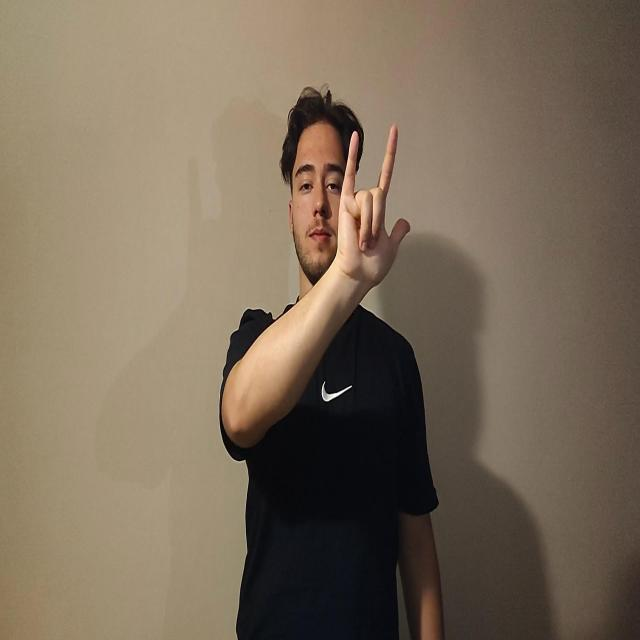iloveyou: (335, 122, 411, 293)
